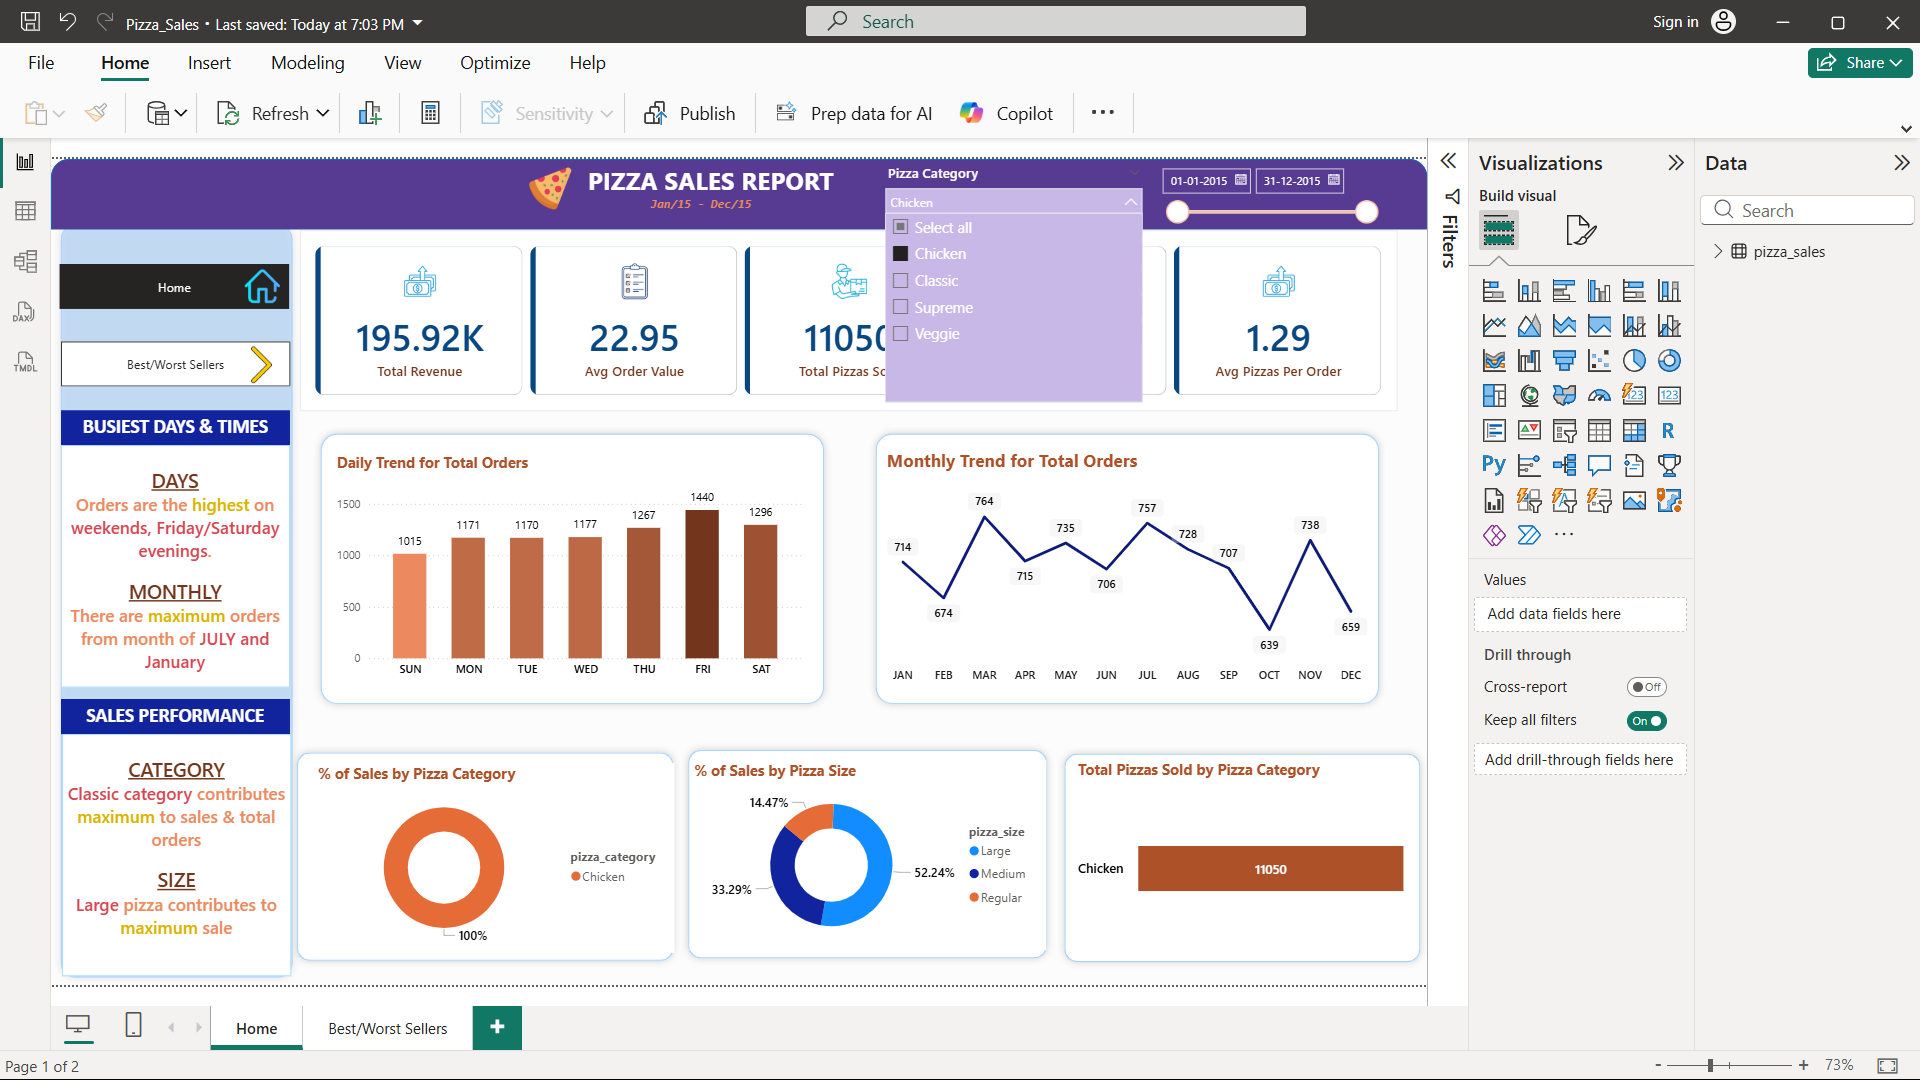

Layout of this report page (visuals, bound fields, positions):
{"tool":"powerbi","page":{"name":"Home","canvas":[1500,900],"ordinal":0},"visuals":[{"type":"shape","box":[3.2,64.3,268.5,836.2],"z":0},{"type":"textbox","box":[11.3,273.4,249.3,38.6],"z":1000},{"type":"cardVisual","fields":{"Data":["pizza_sales.Total Revenue","pizza_sales.Avg Order Value","pizza_sales.Total Pizzas Sold","pizza_sales.Total Orders","pizza_sales.Avg Pizzas Per Order"]},"box":[271.8,77.2,1196.4,197.8],"z":2000},{"type":"shape","box":[0,0,1500.3,77.2],"z":3000},{"type":"textbox","box":[580.5,0,289.5,45],"z":4000},{"type":"textbox","box":[648.1,33.8,152.8,30.6],"z":5000},{"type":"image","box":[490.5,8,107.7,48.2],"z":6000},{"type":"shape","box":[285.9,292,564.4,310.4],"z":7000},{"type":"columnChart","title":"Daily Trend for Total Orders","fields":{"Category":["pizza_sales.Order Day"],"Y":["pizza_sales.Total Orders"]},"box":[306.8,319.4,517.8,255.7],"z":8000},{"type":"shape","box":[890.5,292,564.4,310.4],"z":9000},{"type":"areaChart","title":"Monthly Trend for Total Orders","fields":{"Y":["pizza_sales.Total Orders"],"Category":["pizza_sales.Order Month"]},"box":[906.6,316.1,533.9,265.3],"z":10000},{"type":"shape","box":[260.5,638.4,426.1,242.8],"z":11000},{"type":"shape","box":[686.6,636.8,406.8,242.8],"z":12000},{"type":"shape","box":[1096.4,640,403.6,242.8],"z":13000},{"type":"donutChart","title":"% of Sales by Pizza Category","fields":{"Category":["pizza_sales.pizza_category"],"Y":["pizza_sales.Total Revenue"]},"box":[286.2,657.7,394,207.4],"z":14000},{"type":"donutChart","title":"% of Sales by Pizza Size","fields":{"Y":["pizza_sales.Total Revenue"],"Category":["pizza_sales.pizza_size"]},"box":[696.3,656.1,389.2,207.4],"z":15000},{"type":"funnel","title":"Total Pizzas Sold by Pizza Category","fields":{"Category":["pizza_sales.pizza_category"],"Y":["pizza_sales.Total Pizzas Sold"]},"box":[1114,654.5,369.9,217.1],"z":16000},{"type":"textbox","box":[11.3,312,249.3,263.7],"z":17000},{"type":"textbox","box":[11.3,588.6,249.3,38.6],"z":18000},{"type":"textbox","box":[12.9,627.1,249.3,263.7],"z":19000},{"type":"slicer","fields":{"Values":["pizza_sales.pizza_category"]},"box":[898.9,0,300.7,64.3],"z":20000},{"type":"slicer","fields":{"Values":["pizza_sales.order_date"]},"box":[1199.6,0,255.7,77.2],"z":21000},{"type":"pageNavigator","box":[9.6,114.2,250.9,49.9],"z":21001},{"type":"pageNavigator","box":[11.3,199.4,250.9,49.9],"z":21002},{"type":"image","box":[180.1,204.2,99.7,40.2],"z":21004},{"type":"image","box":[210.7,112.6,38.6,51.5],"z":21005}]}

Visuals, with their boxes on the page's 1500x900 design canvas (x1, y1, x2, y2). These are canvas units, not pixel positions in the 1920x1080 screenshot, which may show the page scaled, cropped or inside an application window:
shape: 3 64 272 900
textbox: 11 273 261 312
cardVisual - pizza_sales.Total Revenue x pizza_sales.Avg Order Value: 272 77 1468 275
shape: 0 0 1500 77
textbox: 580 0 870 45
textbox: 648 34 801 64
image: 490 8 598 56
shape: 286 292 850 602
"Daily Trend for Total Orders" columnChart: 307 319 825 575
shape: 890 292 1455 602
"Monthly Trend for Total Orders" areaChart: 907 316 1440 581
shape: 260 638 687 881
shape: 687 637 1093 880
shape: 1096 640 1500 883
"% of Sales by Pizza Category" donutChart: 286 658 680 865
"% of Sales by Pizza Size" donutChart: 696 656 1086 864
"Total Pizzas Sold by Pizza Category" funnel: 1114 654 1484 872
textbox: 11 312 261 576
textbox: 11 589 261 627
textbox: 13 627 262 891
slicer - pizza_sales.pizza_category: 899 0 1200 64
slicer - pizza_sales.order_date: 1200 0 1455 77
pageNavigator: 10 114 260 164
pageNavigator: 11 199 262 249
image: 180 204 280 244
image: 211 113 249 164
